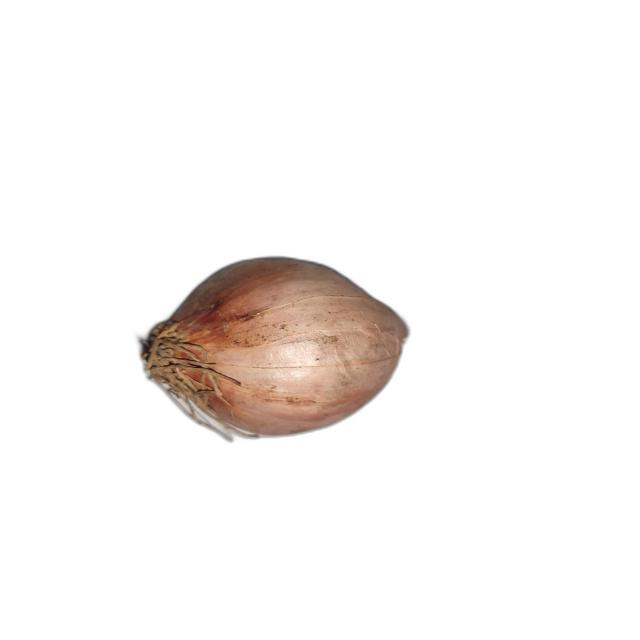onion: (137, 256, 410, 442)
